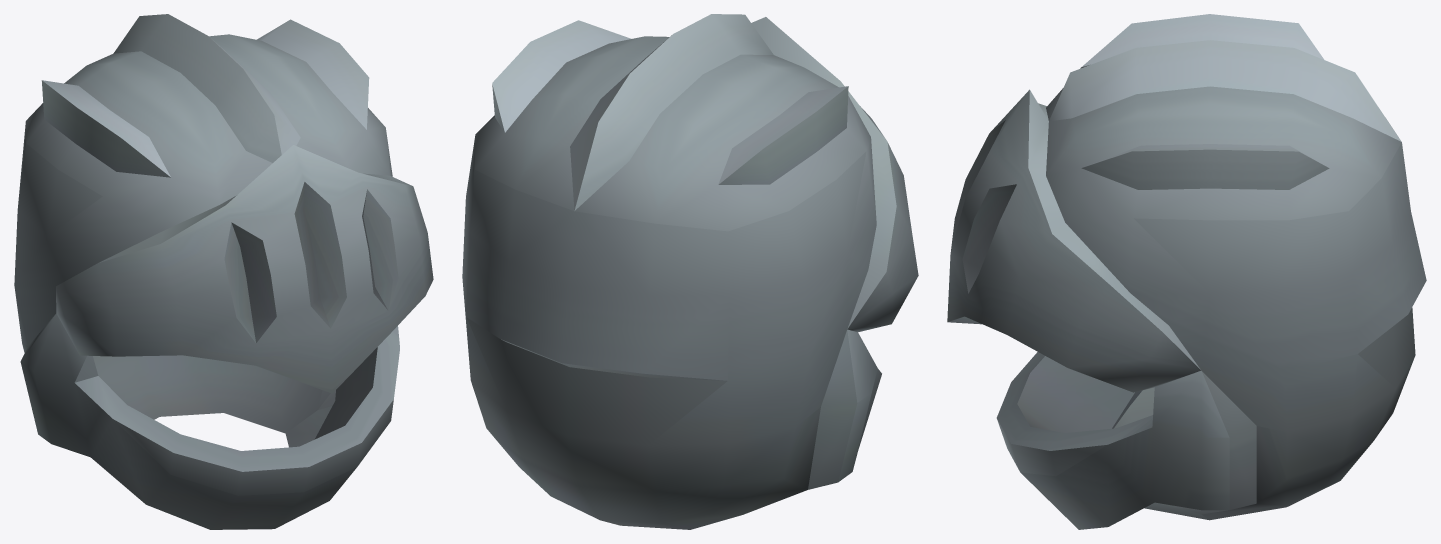
File: Knight_Helmet.glb
3 renders of one model, left to right at view 1: azimuth 30°, elevation 25°; view 2: azimuth 150°, elevation 25°; view 3: azimuth 270°, elevation 25°, orthographic. The views are drawn at different scales.
Visible parts, largest first — view 1: Knight_Helmet; view 2: Knight_Helmet; view 3: Knight_Helmet.
Boxes of the visible parts, x1,y1,x2,y2 form: Knight_Helmet: (14,14,433,529); Knight_Helmet: (462,14,918,529); Knight_Helmet: (947,14,1426,529).
Size of the model in its own units: 1.14 by 1.36 by 1.25.
Materials: 1 (1 with a texture image).
